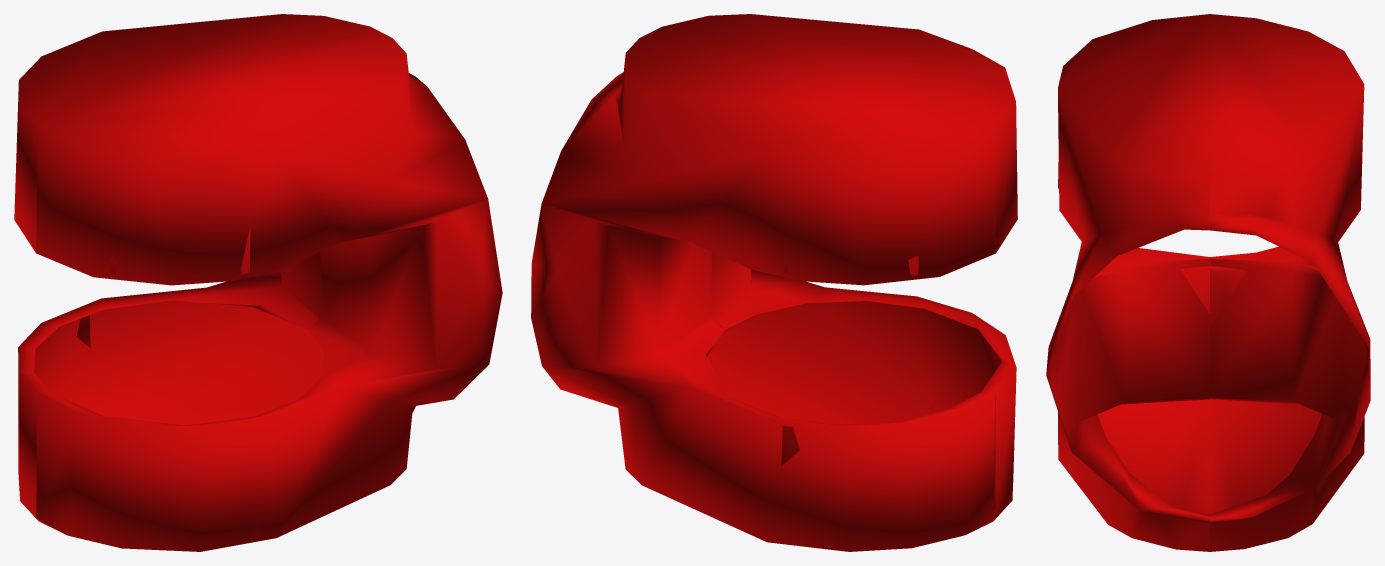
The model's file is S1_decimate2.dae.
The picture shows the model from 3 angles, left to right: view 1: azimuth 30°, elevation 25°; view 2: azimuth 150°, elevation 25°; view 3: azimuth 270°, elevation 25°; orthographic projection. The views are drawn at different scales.
Parts seen in each view (by area): view 1: S1; view 2: S1; view 3: S1.
Part boxes in pixels (x1=…): S1: x1=14, y1=14, x2=502, y2=551; S1: x1=531, y1=14, x2=1017, y2=551; S1: x1=1046, y1=14, x2=1370, y2=551.
Bounding box in the file's own units: 0.1936 × 0.1515 × 0.1936.
